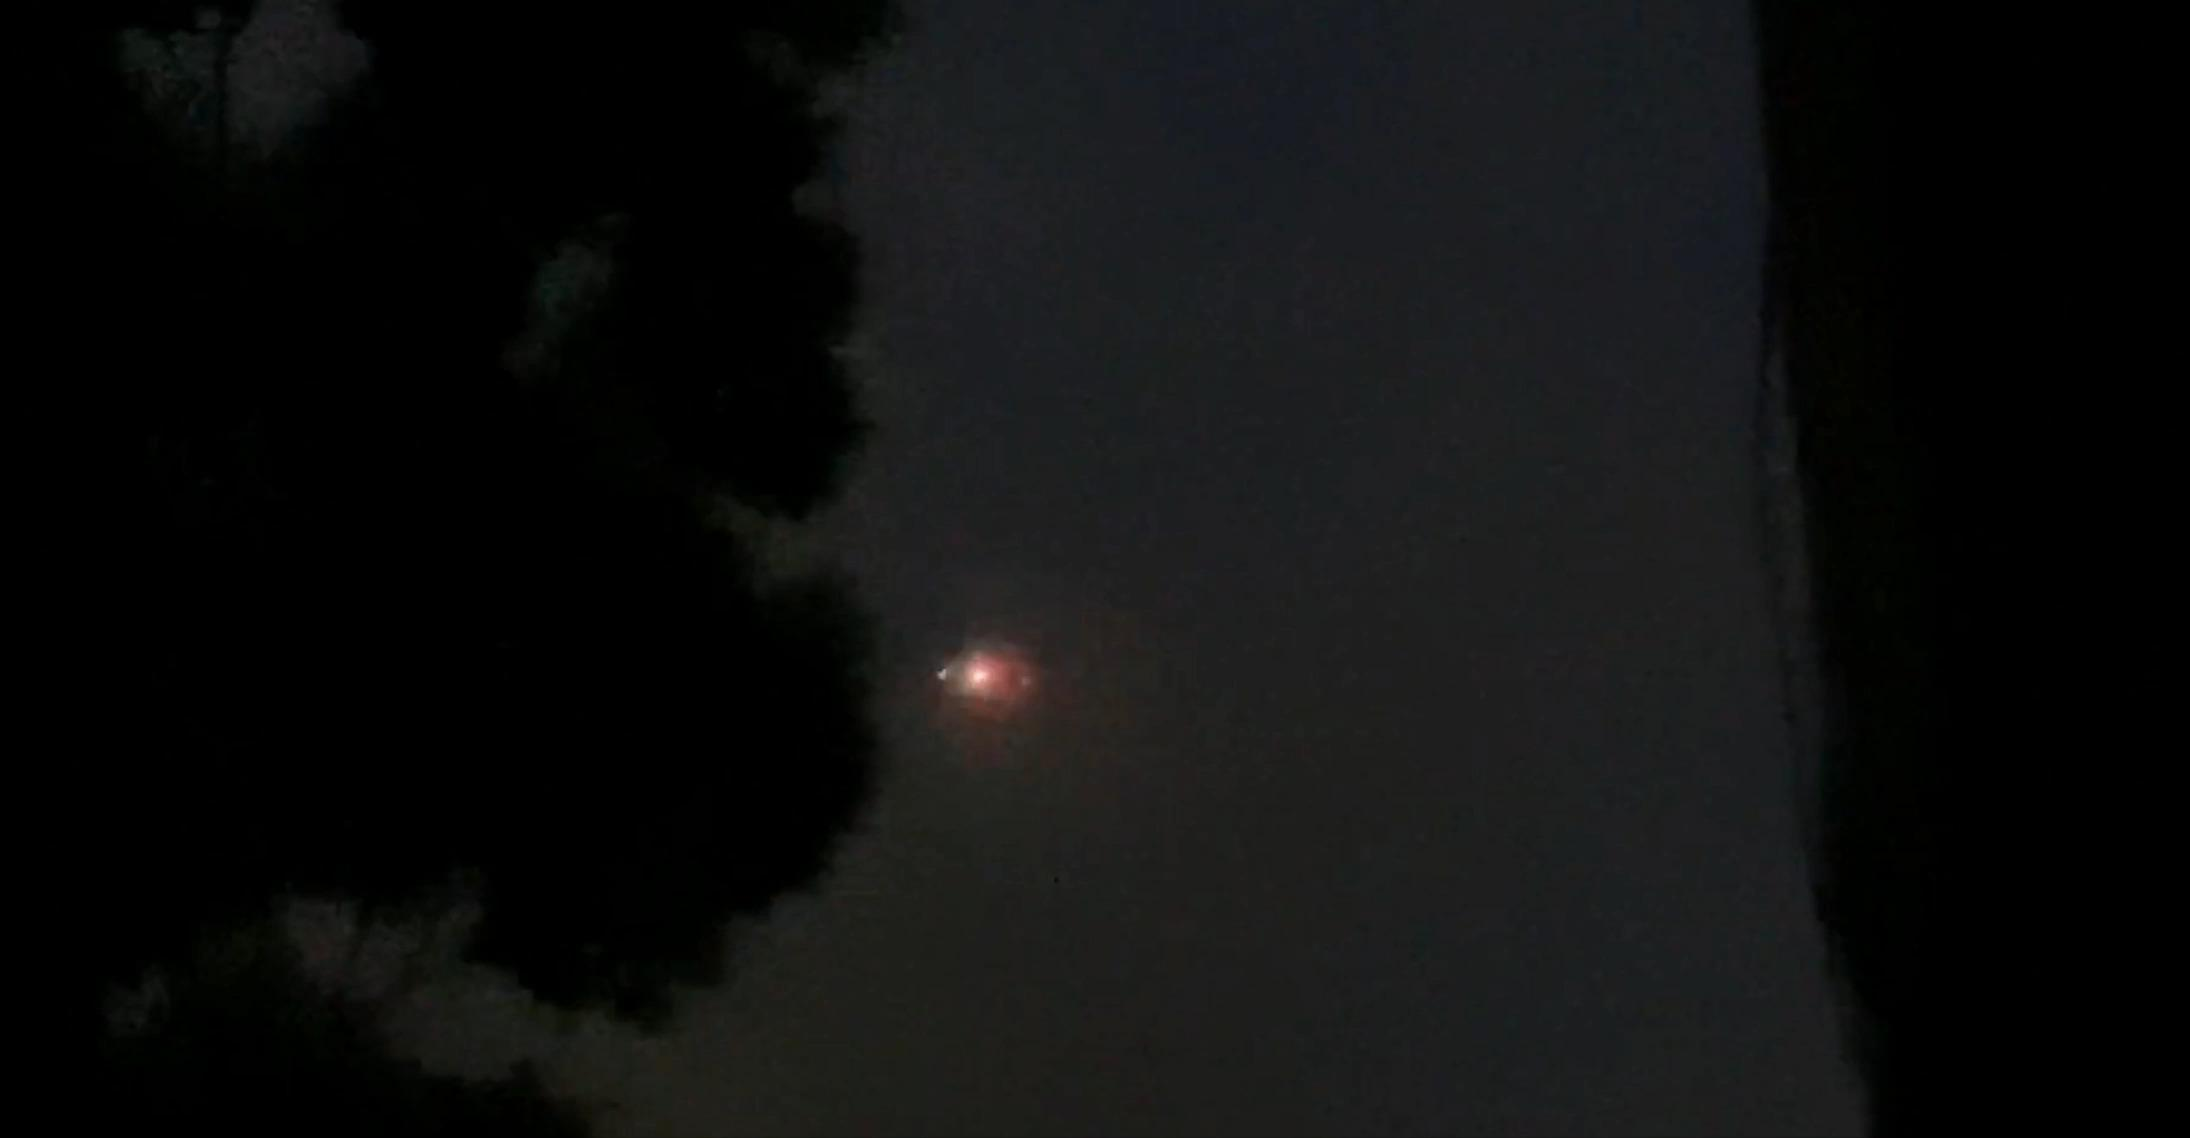Plane: (899, 611, 1056, 736)
